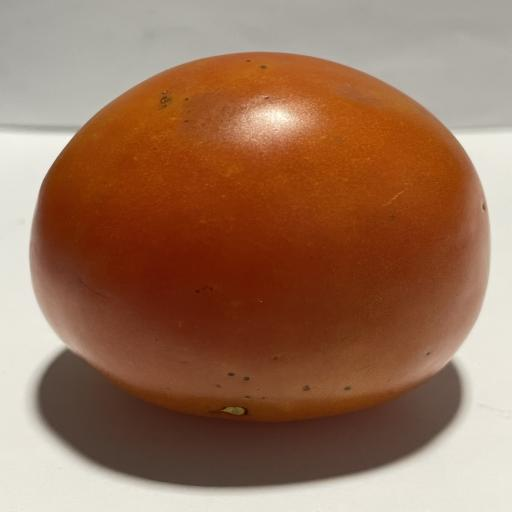ripe: (30, 52, 489, 422)
